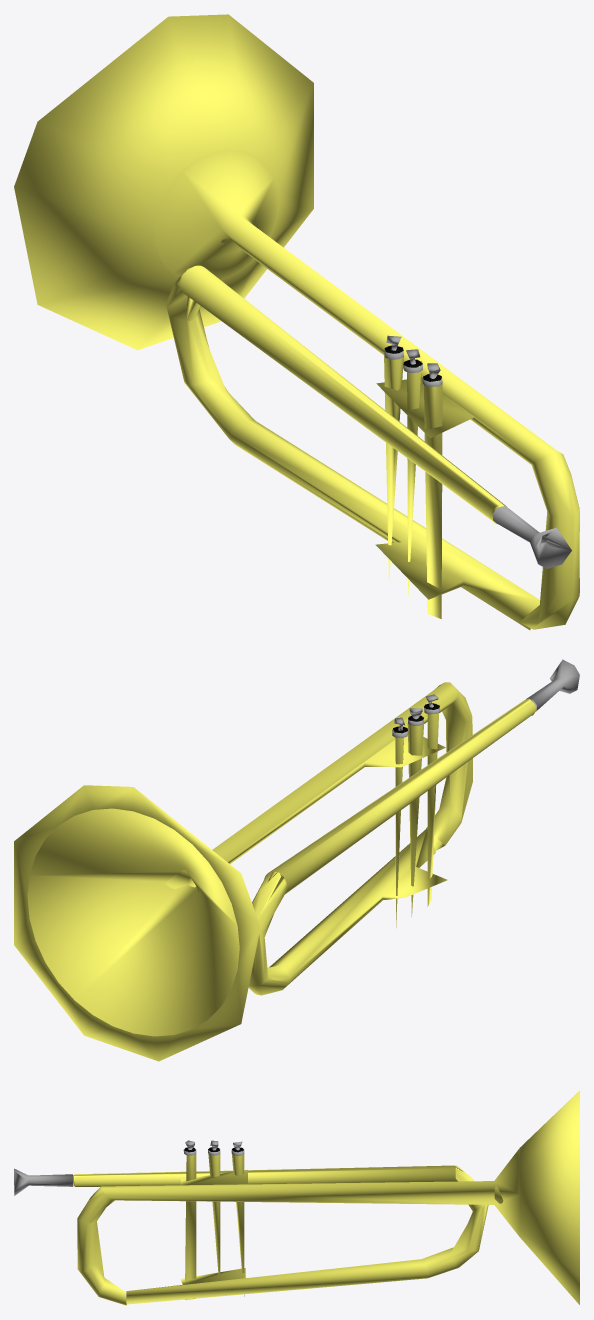
File: music_trumpet.glb
The picture shows the model from 3 angles, top to bottom: view 1: azimuth 30°, elevation 25°; view 2: azimuth 150°, elevation 25°; view 3: azimuth 270°, elevation 25°; orthographic projection. The views are drawn at different scales.
Visible parts, largest first — view 1: Cylinder; view 2: Cylinder; view 3: Cylinder.
Part boxes in pixels (box(x1,y1,x2,y2)): Cylinder: box(14, 14, 579, 630); Cylinder: box(14, 659, 579, 1061); Cylinder: box(14, 1090, 579, 1305).
Bounding box in the file's own units: 0.1903 × 0.2179 × 0.5.
